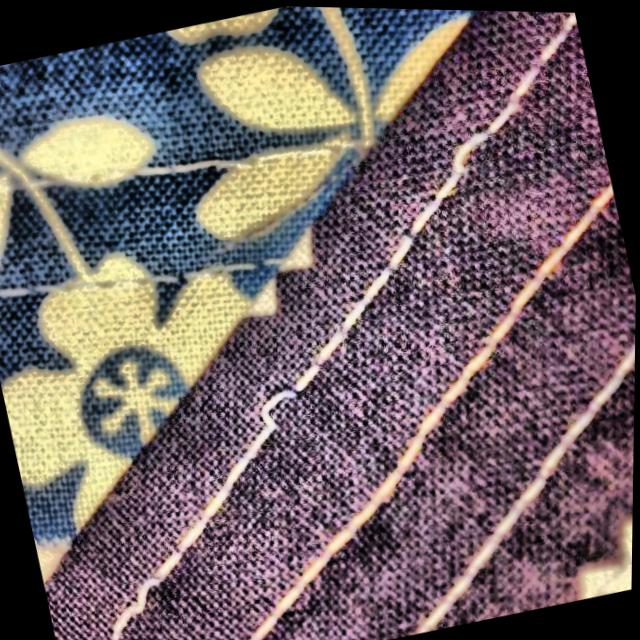Stitch: (385, 92, 557, 238), (214, 340, 361, 498)
